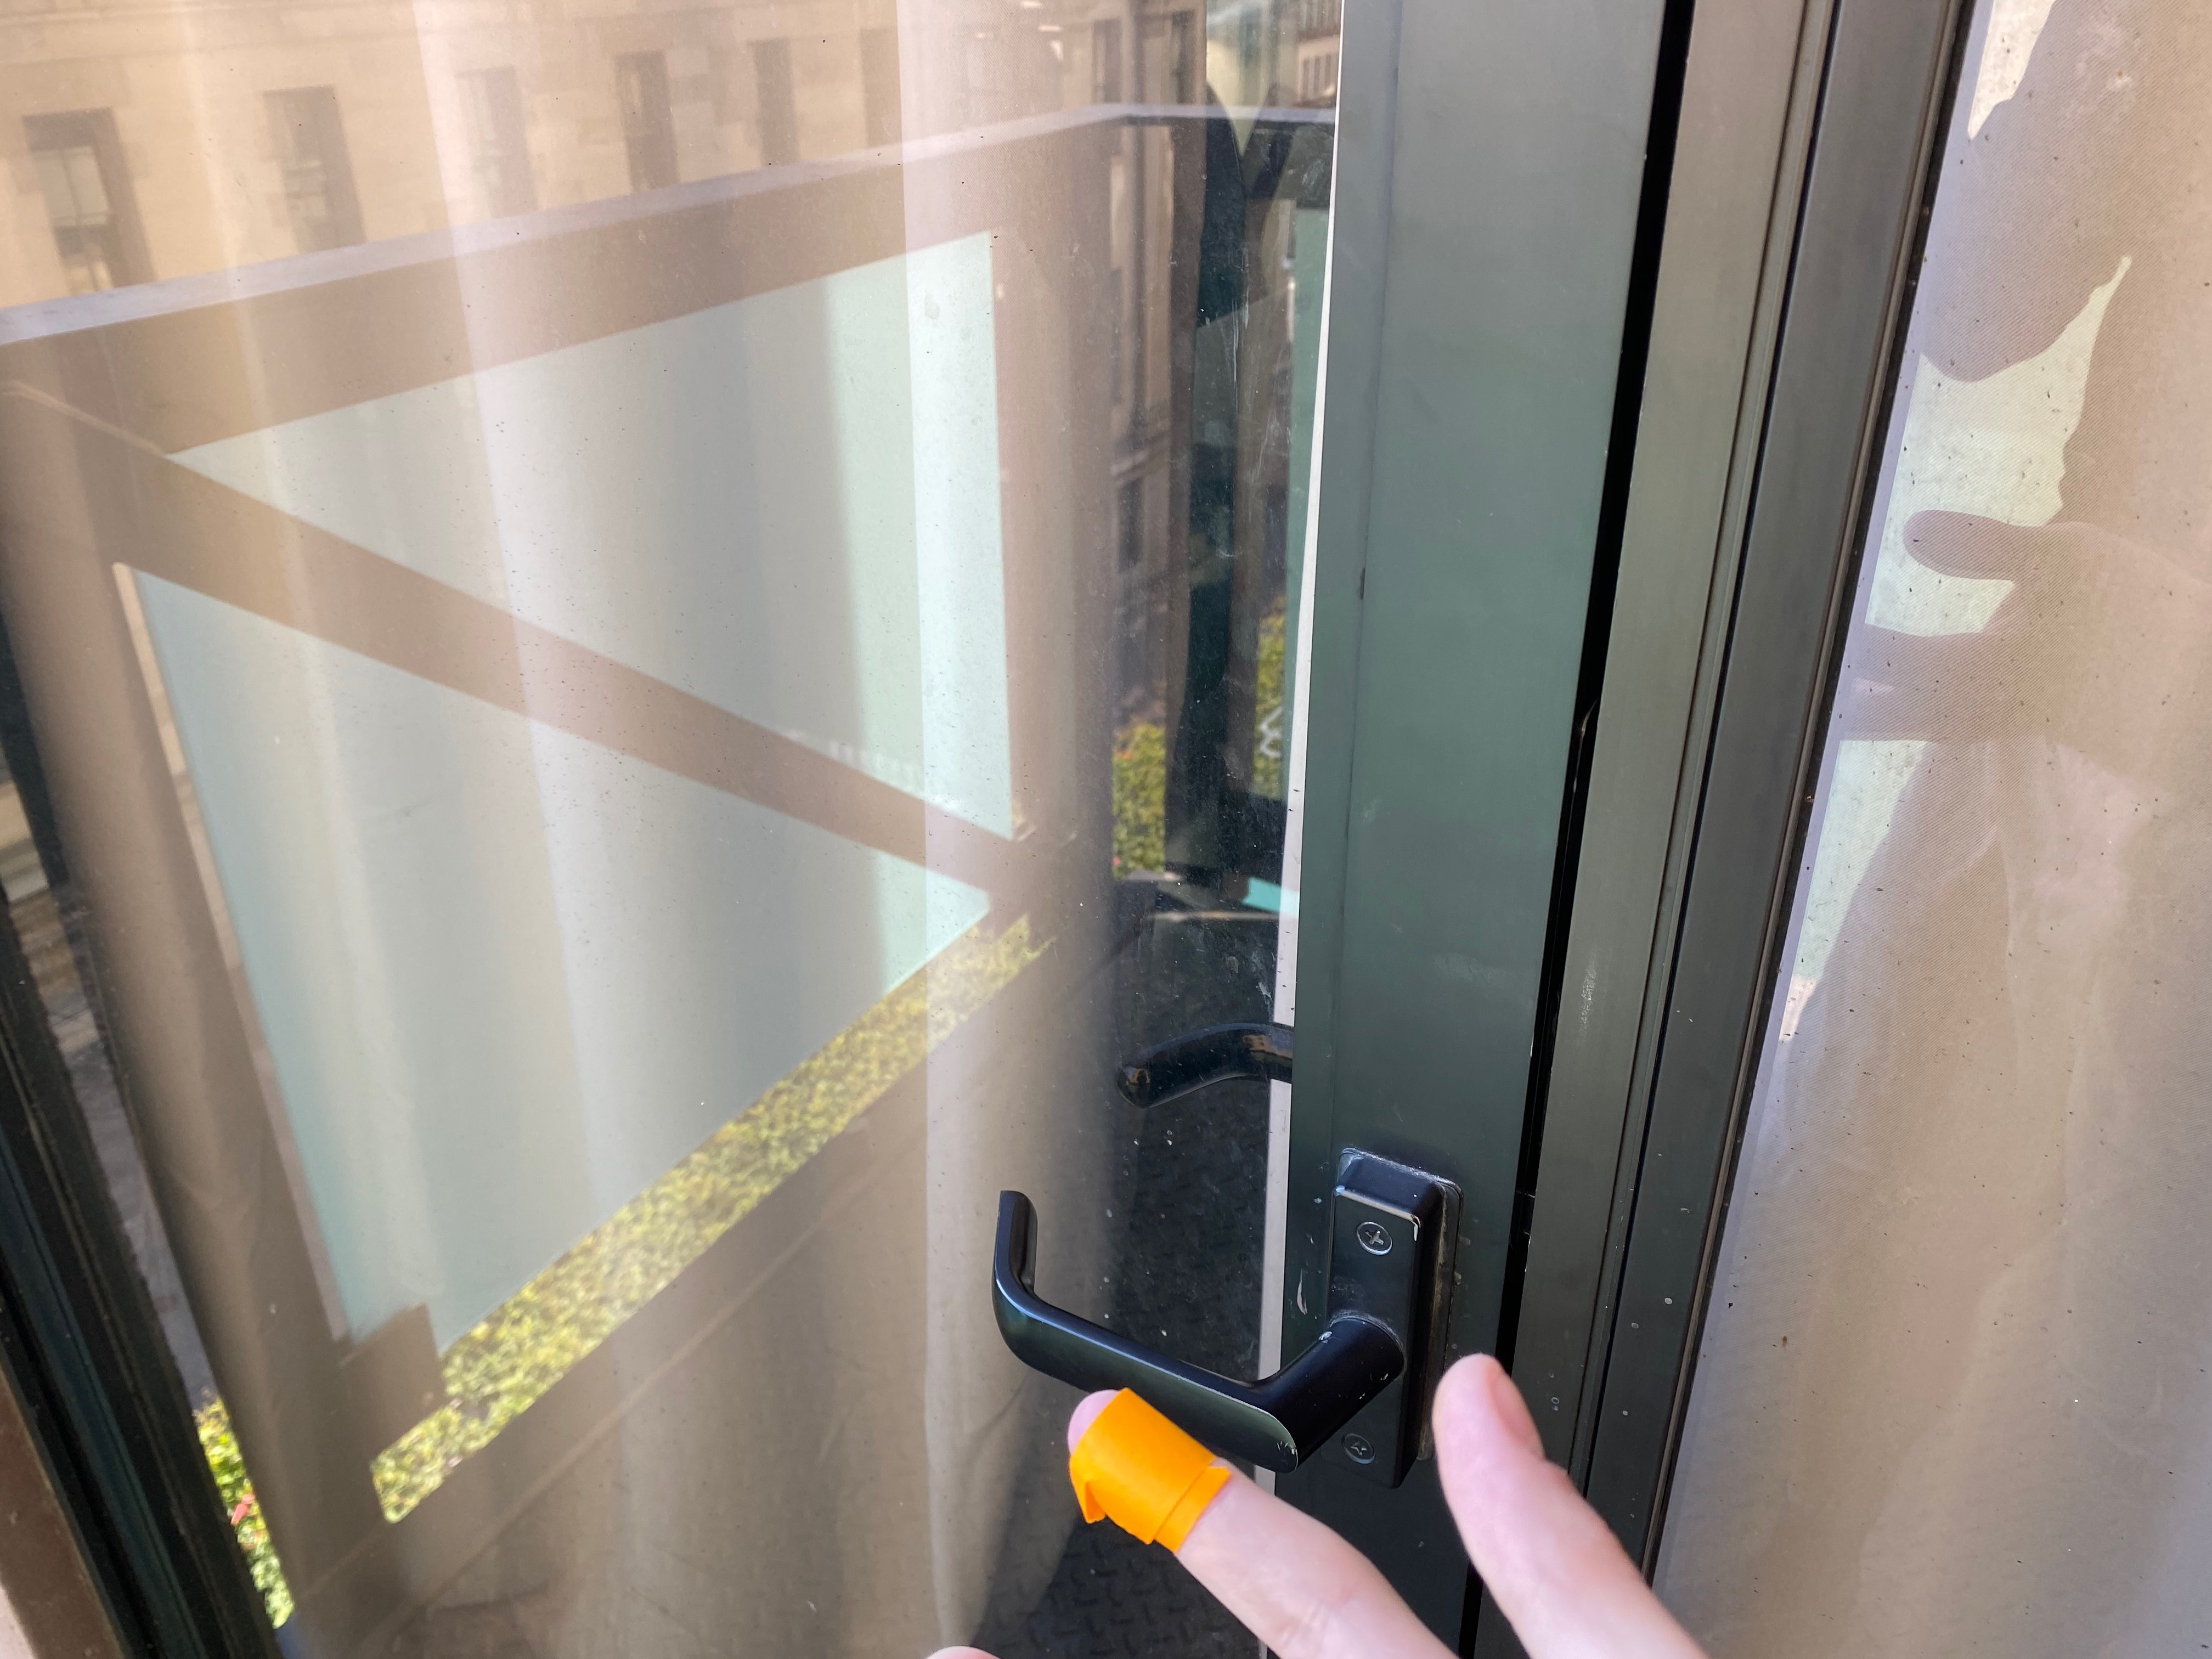fingertip: (1040, 1382, 1275, 1558)
